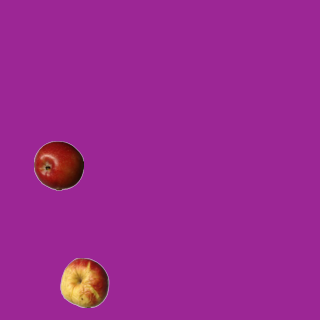Apple Braeburn: (33, 140, 83, 190)
Apple Red Yellow 1: (59, 257, 109, 307)
